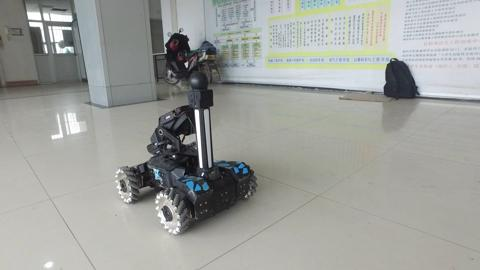bag: (377, 54, 428, 104)
chariot: (105, 67, 265, 241)
